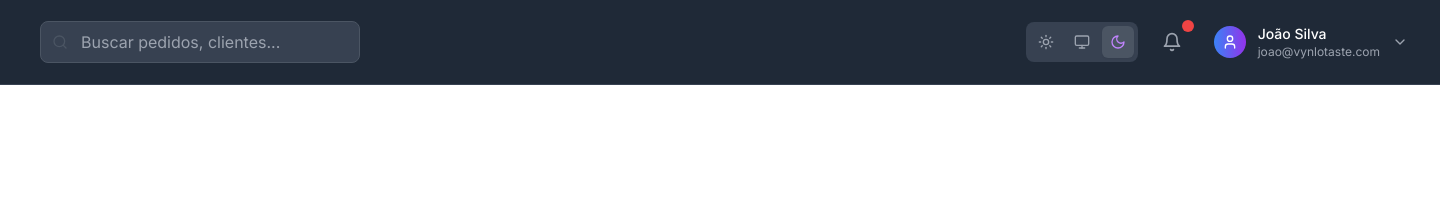
Test: Header Component › deve fechar menu do usuário com tecla Escape
// Abrir menu
Click the button with aria-label "Menu do usuário".
click(1311, 42)  # box [1206,16,1416,68]
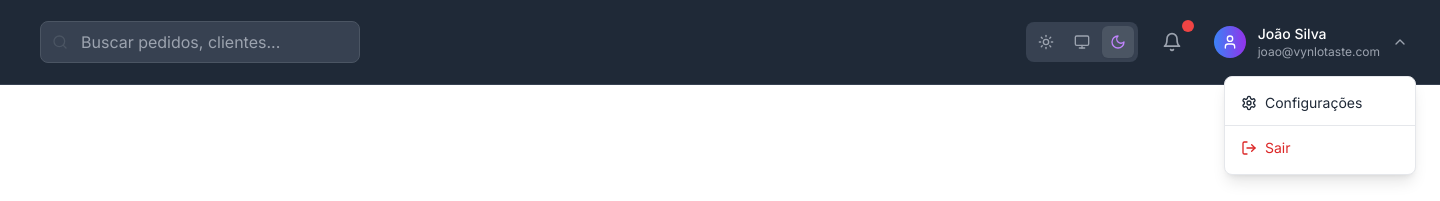
Expected: the text "Configurações" is shown, [1265,93,1362,113]
// Pressionar Escape
Press Escape in the button with aria-label "Menu do usuário", box [1206,16,1416,68]
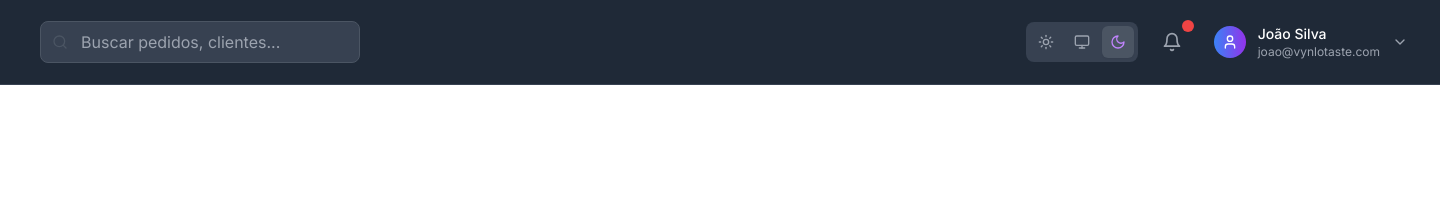
Expected: the menu item "Configurações" is gone
